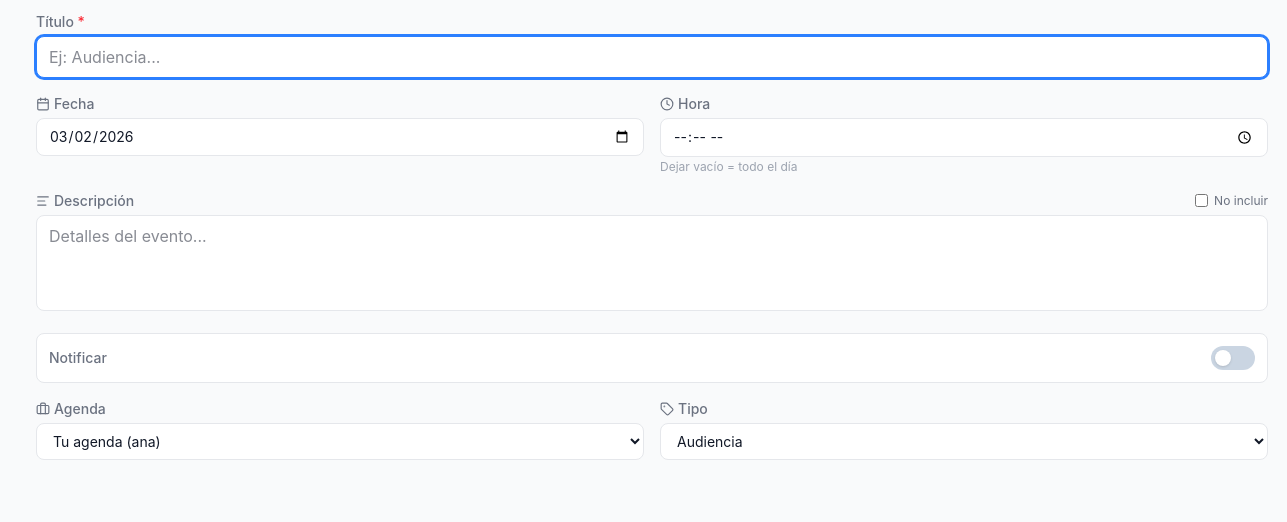
Test: AgendaEventFormBody › propaga el valor HH:mm desde el input time
The width and height of the screenshot is (1287, 522).
Type "16:55" into the time field with test id "agenda-event-time-input".
click(964, 137); type("16:55")  # box [660,118,1268,157]
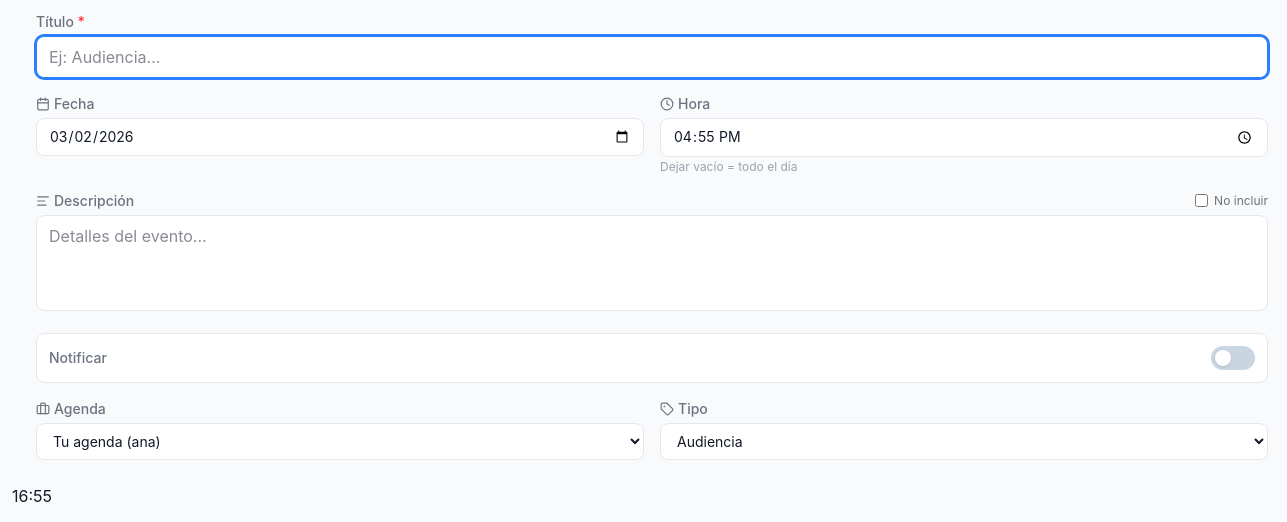
expect the text with test id "time-value" reads "16:55": met, box [12,486,52,506]
